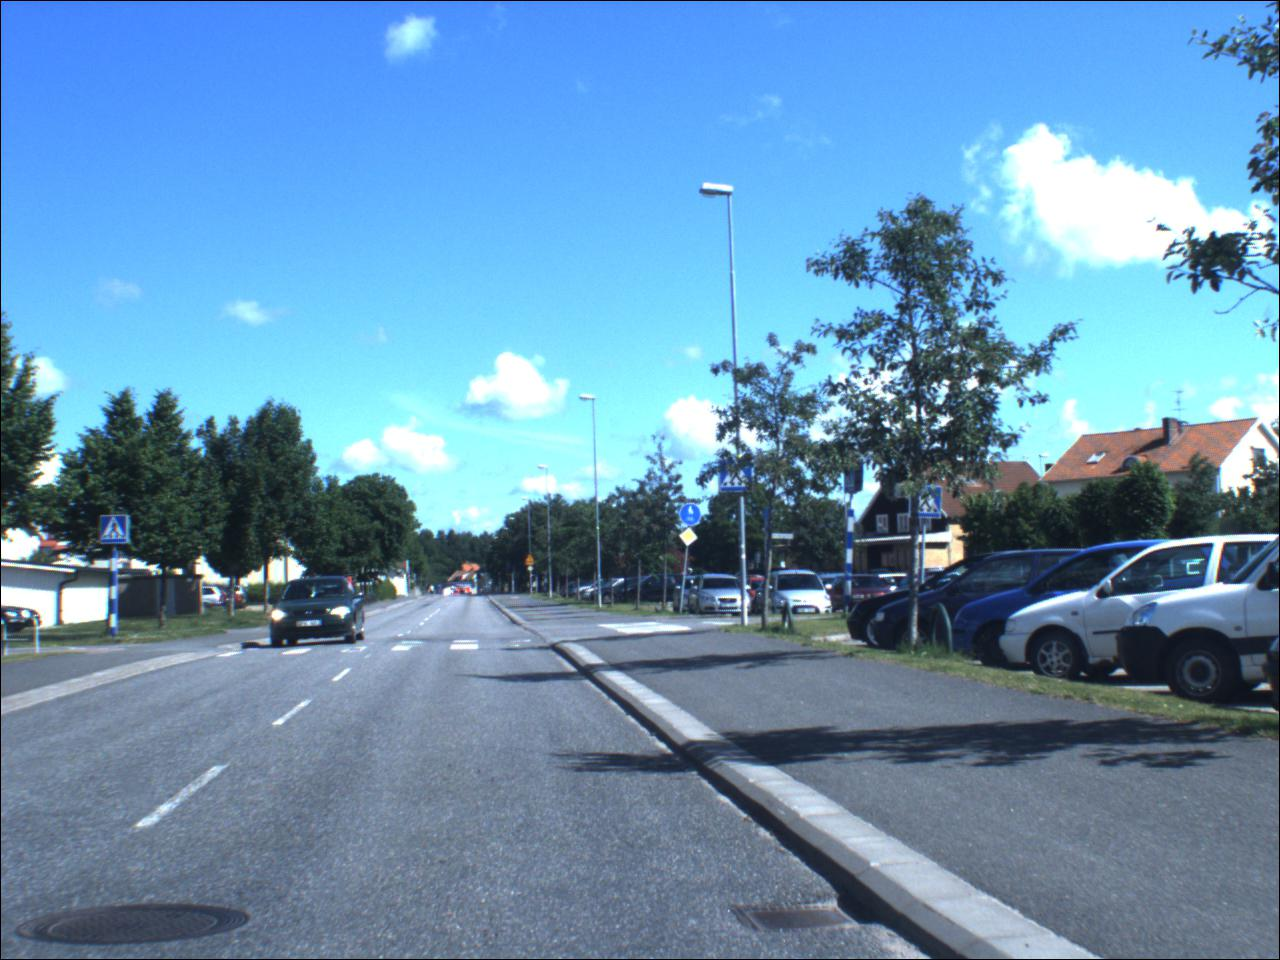PEDESTRIAN_CROSSING: (911, 485, 944, 522), (721, 462, 754, 494), (102, 517, 131, 547), (845, 460, 859, 493)
PRIORITY_ROAD: (680, 529, 700, 549), (529, 568, 536, 576)
WARNING: (524, 552, 541, 567)
